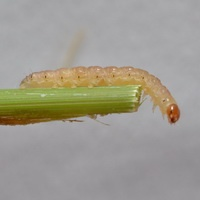insect: (0, 66, 179, 124), (20, 66, 179, 123)
